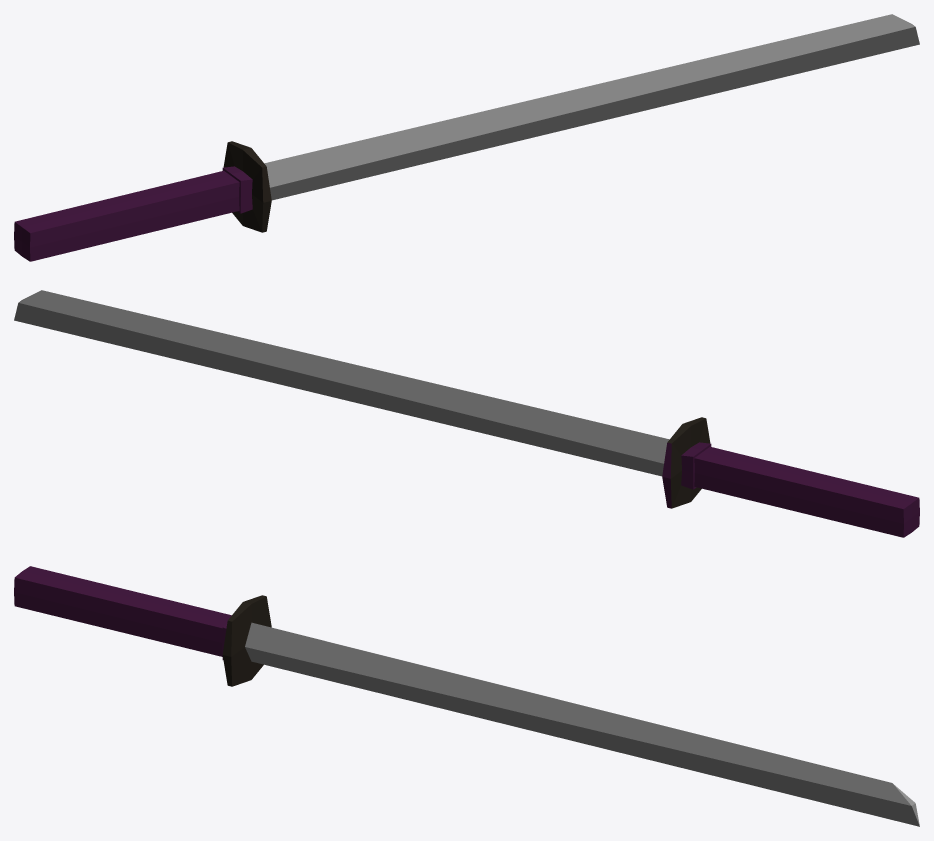
The model's file is Katana.fbx.
The picture shows the model from 3 angles, top to bottom: view 1: azimuth 30°, elevation 25°; view 2: azimuth 150°, elevation 25°; view 3: azimuth 330°, elevation 25°; orthographic projection.
Visible parts, largest first — view 1: Cube.008; view 2: Cube.008; view 3: Cube.008.
Part boxes in pixels (x1=…): Cube.008: x1=14, y1=14, x2=919, y2=261; Cube.008: x1=14, y1=290, x2=919, y2=537; Cube.008: x1=14, y1=566, x2=919, y2=826.
Size of the model in its own units: 1893 by 153 by 148.
